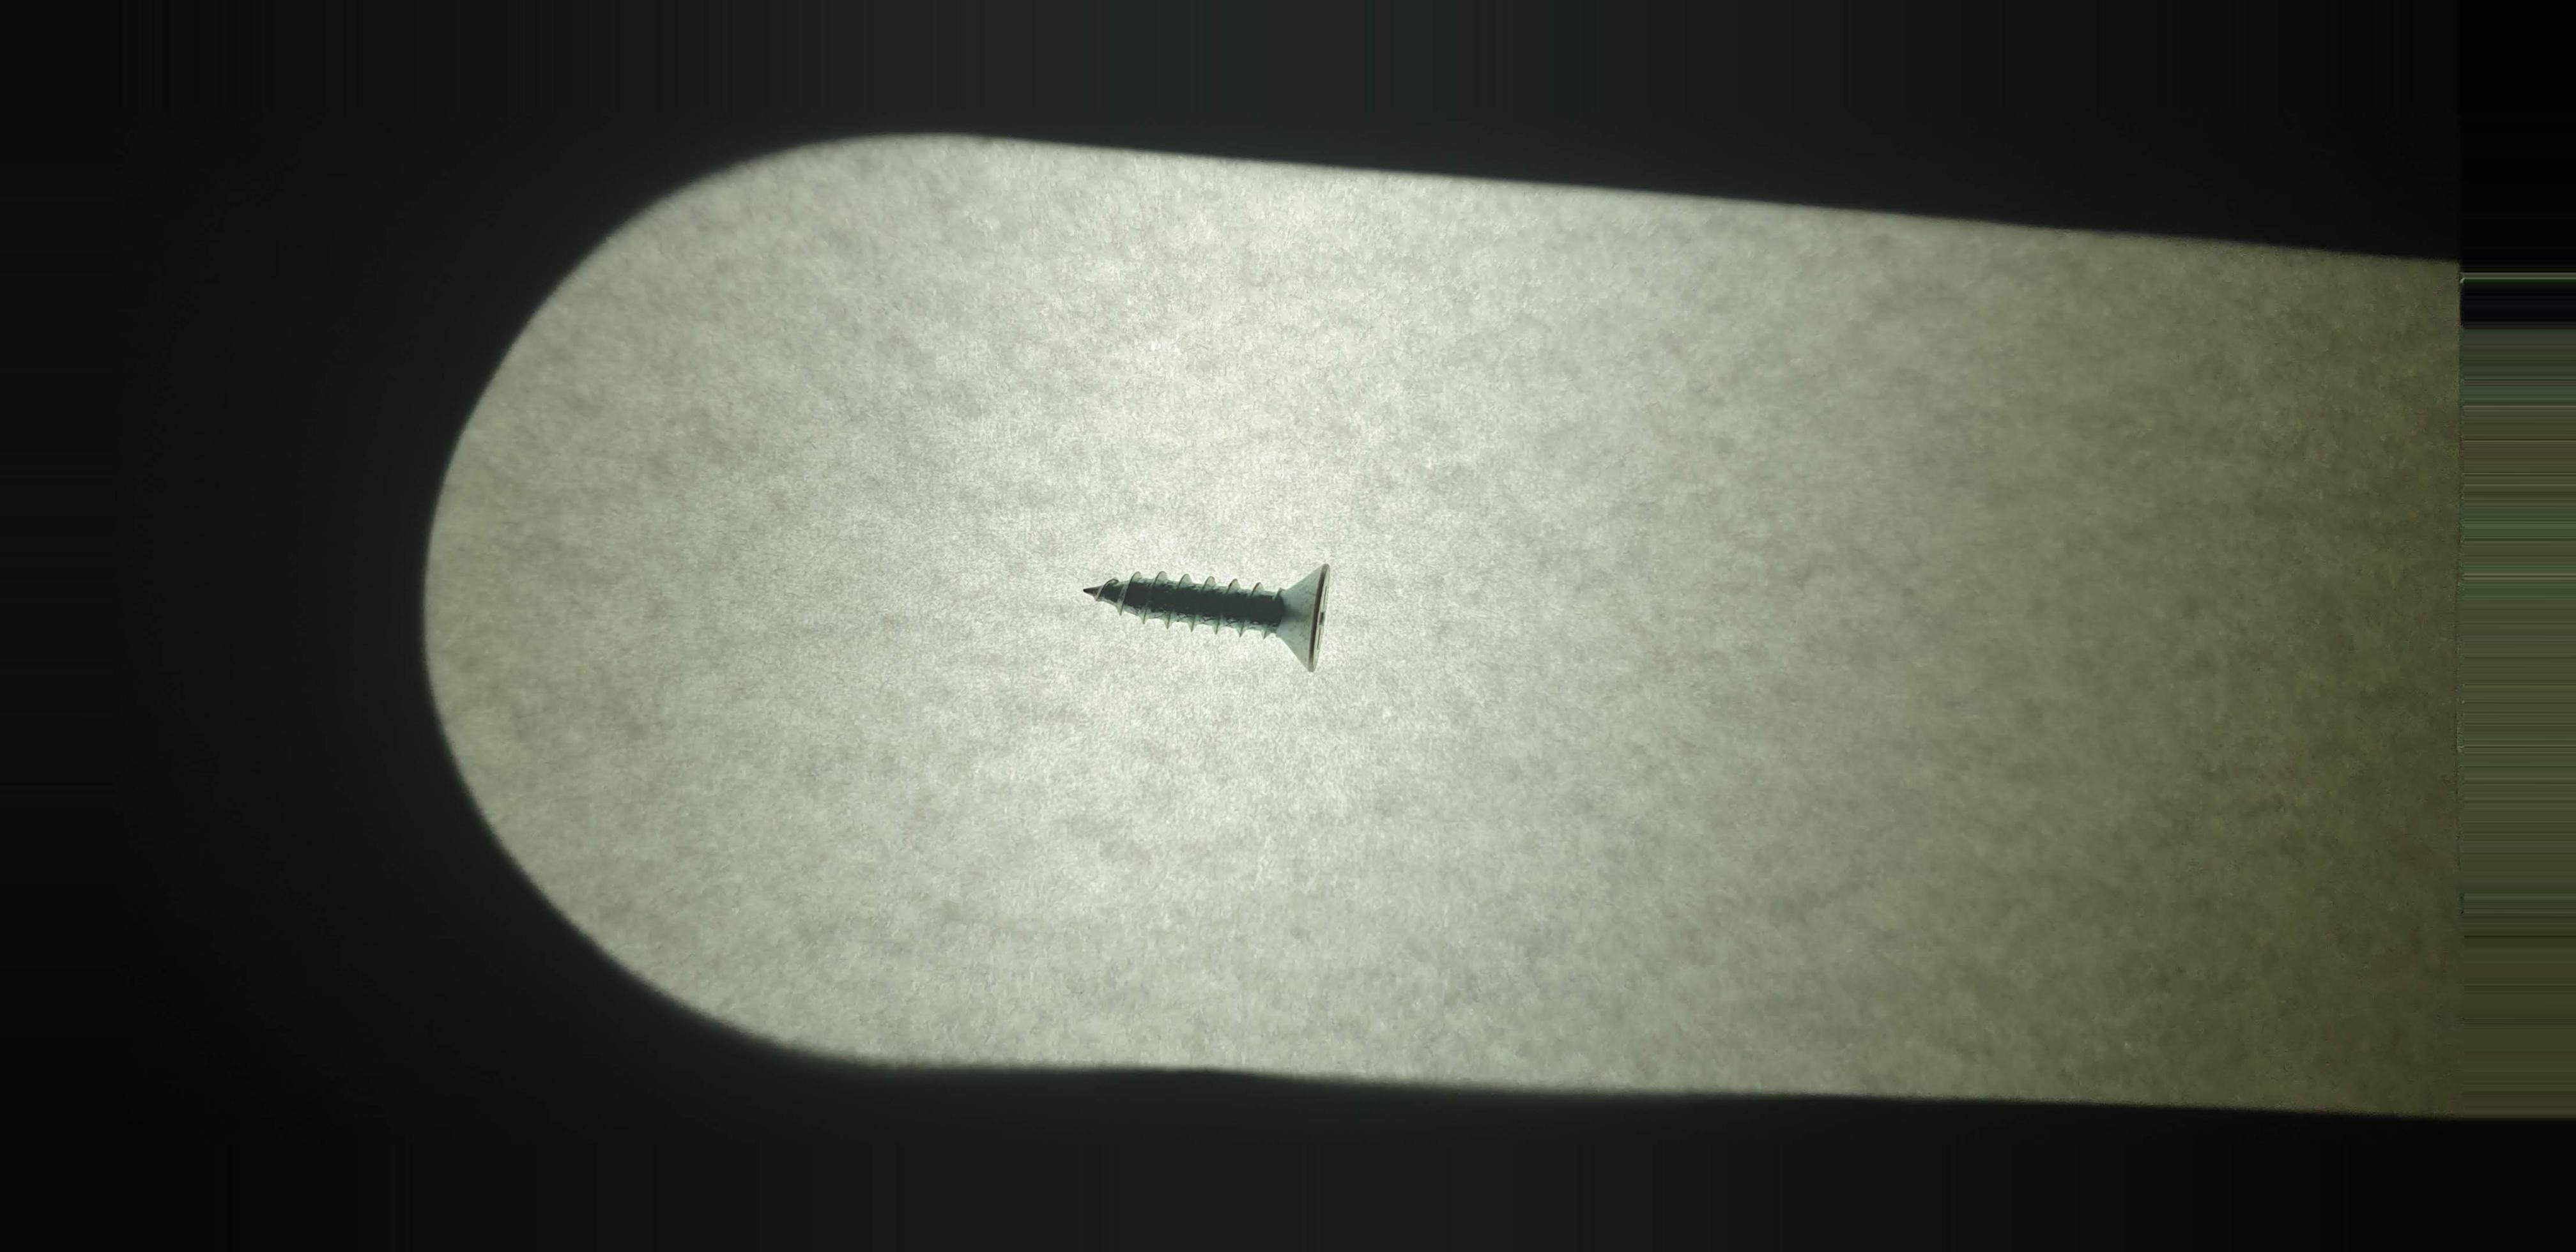S003: (1043, 529, 1400, 693)
